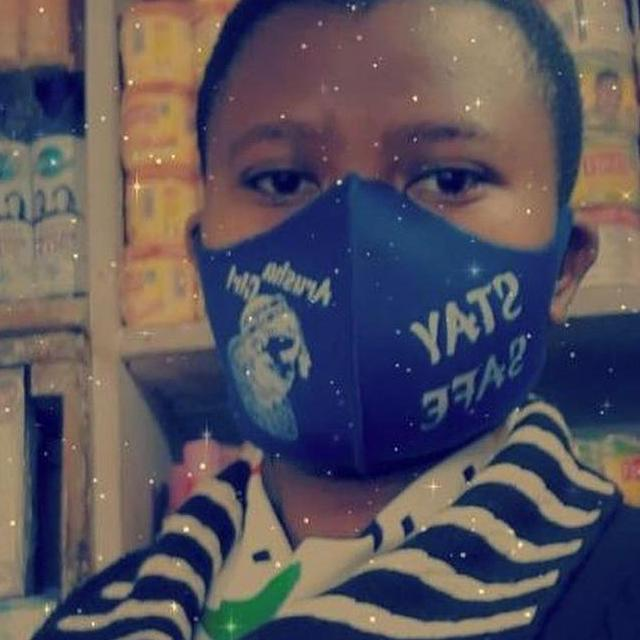Mask: (191, 178, 566, 475)
NO-Hardhat: (210, 0, 575, 98)
NO-Safety Vest: (17, 502, 640, 640)
Person: (0, 0, 640, 640)
